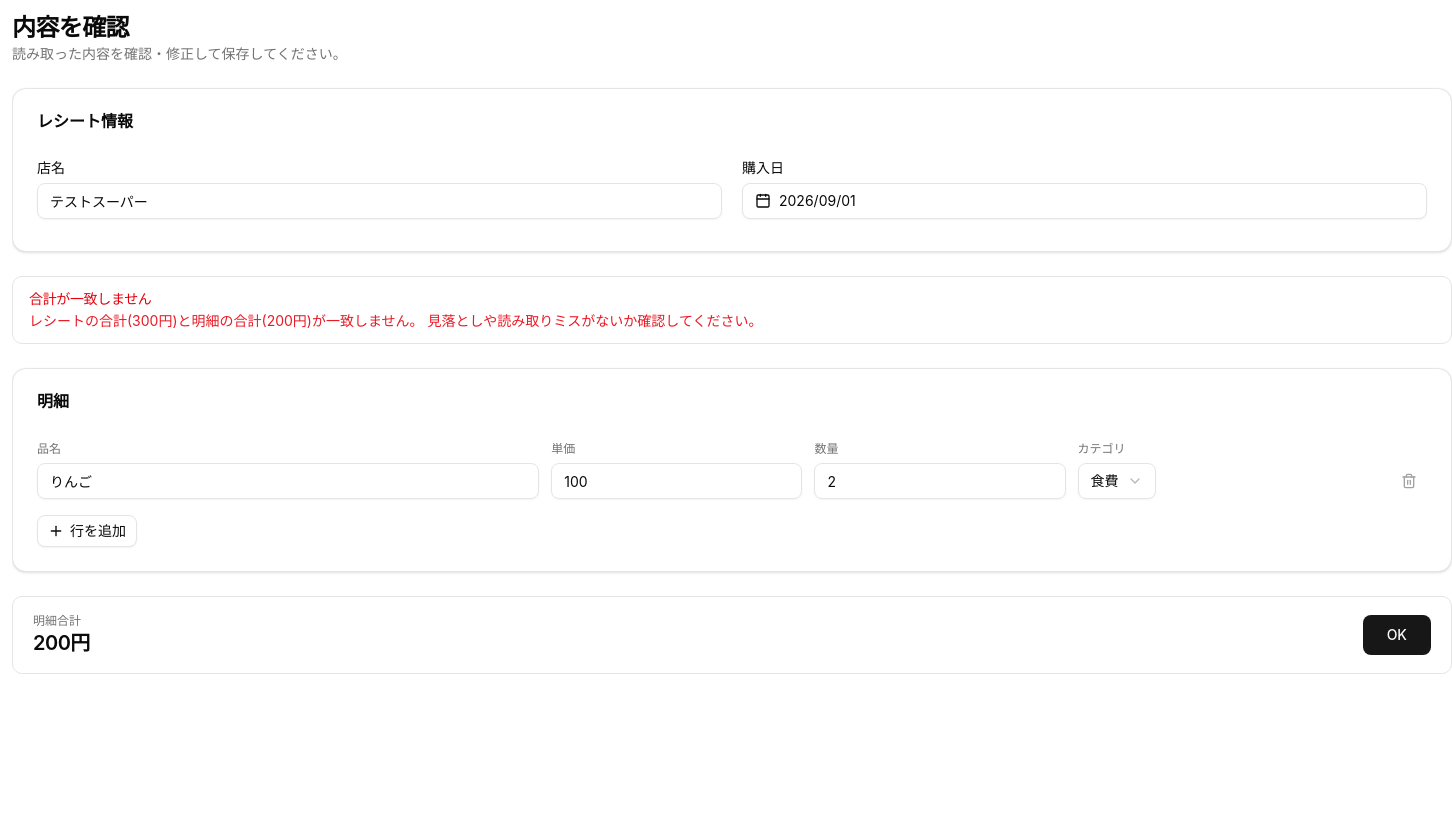
Test: ConfirmPage › adds a new item row
The image size is (1452, 822).
Click the button "行を追加": point(87, 531) [37,515,137,547]
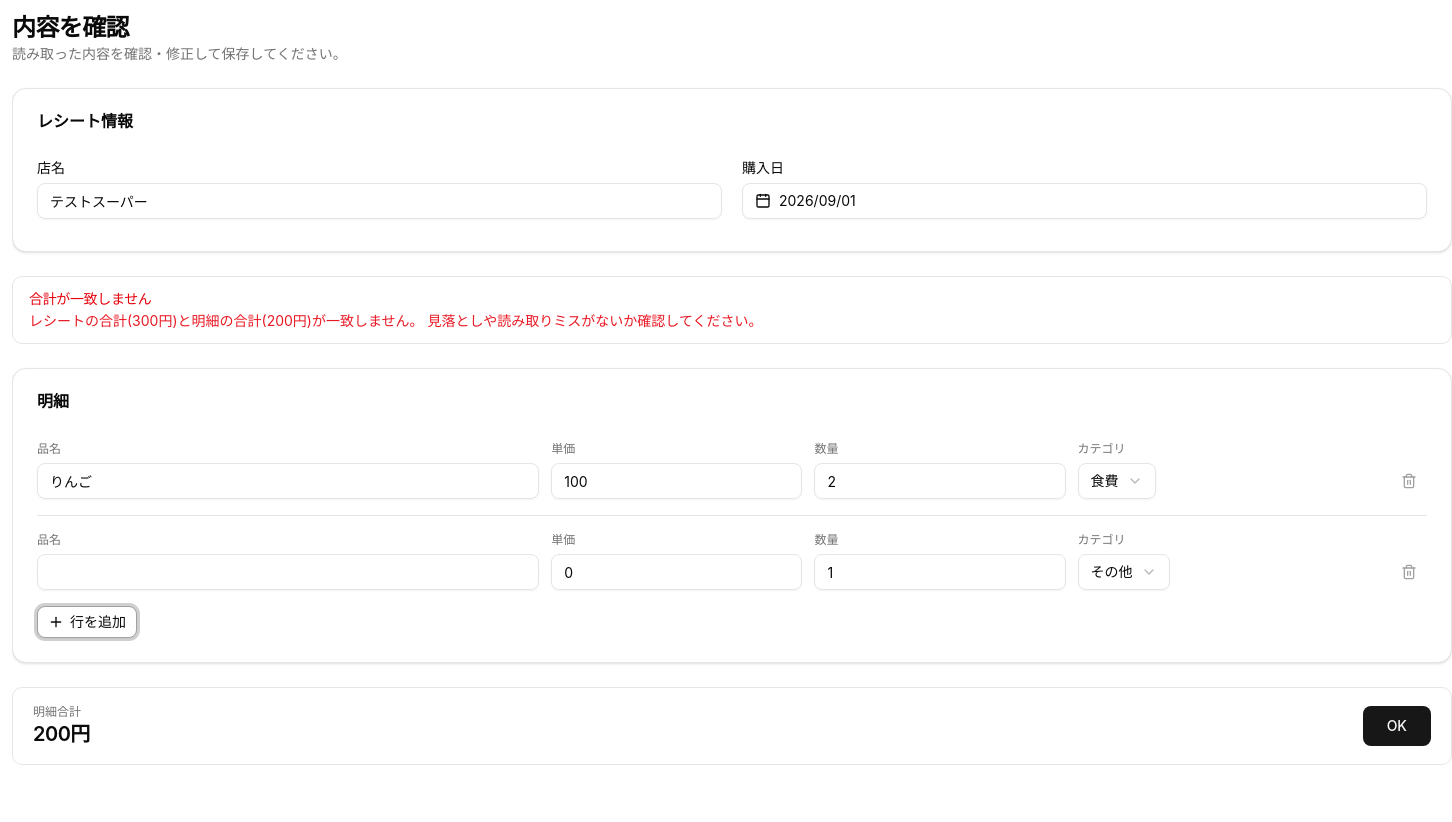
Check: the number of fields labelled "品名" is 2, box [37,463,539,499]; [37,554,539,590]
